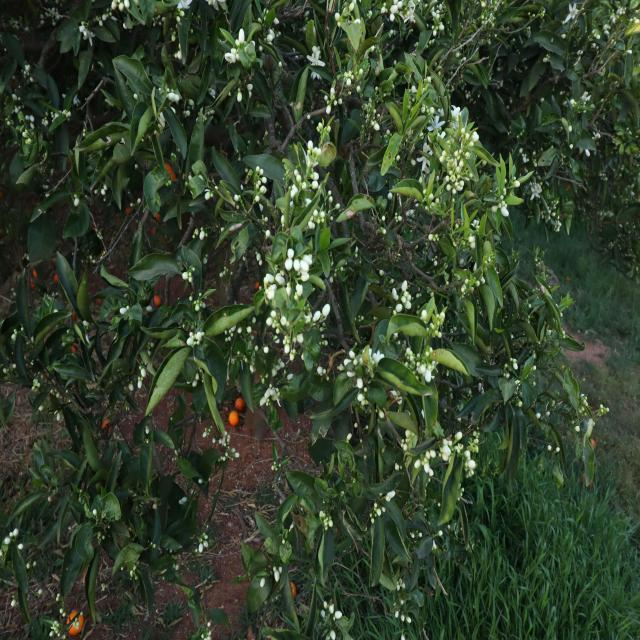Bunga: (308, 50, 326, 80), (445, 173, 464, 194), (431, 12, 444, 36), (429, 114, 443, 136), (417, 148, 432, 168), (565, 2, 579, 22), (462, 129, 478, 146), (454, 150, 469, 167), (272, 358, 285, 377), (404, 4, 416, 24), (440, 438, 450, 461), (264, 387, 280, 401), (446, 158, 460, 174), (450, 105, 463, 122), (206, 0, 226, 11), (464, 460, 476, 478), (194, 293, 205, 312), (82, 30, 95, 46), (198, 532, 208, 552), (402, 291, 412, 310), (498, 200, 509, 217), (202, 622, 212, 640), (372, 350, 384, 364), (218, 266, 232, 278), (186, 332, 196, 348), (50, 620, 60, 636), (344, 70, 354, 86), (224, 52, 237, 64), (530, 186, 542, 199), (598, 404, 610, 416), (276, 272, 286, 286), (182, 270, 192, 284), (266, 285, 276, 299), (260, 394, 270, 408), (404, 348, 414, 362), (177, 0, 192, 9), (284, 258, 294, 271), (25, 115, 35, 128), (192, 372, 200, 388), (274, 566, 282, 582), (324, 516, 333, 530), (300, 260, 310, 272), (416, 362, 426, 374), (386, 490, 396, 502), (472, 218, 480, 233), (421, 458, 429, 473), (449, 119, 459, 131), (175, 43, 182, 60), (322, 303, 330, 317), (72, 616, 80, 630), (436, 312, 444, 326), (304, 312, 312, 326), (302, 253, 312, 264), (60, 110, 71, 120), (238, 28, 244, 46), (290, 185, 298, 198), (225, 329, 233, 342), (272, 321, 280, 334), (424, 369, 432, 382), (468, 235, 476, 248), (230, 448, 240, 458), (428, 233, 439, 242), (196, 332, 203, 346), (296, 284, 303, 298), (255, 252, 262, 266), (267, 30, 274, 44), (401, 439, 409, 451), (510, 358, 518, 370), (581, 395, 589, 407), (372, 120, 380, 132), (177, 9, 184, 22), (310, 171, 320, 180), (406, 208, 415, 218), (32, 378, 40, 389), (398, 9, 406, 20), (401, 280, 408, 292), (224, 432, 230, 446), (286, 282, 292, 296), (312, 46, 320, 56), (310, 181, 320, 189), (286, 248, 294, 258), (266, 273, 274, 283), (307, 220, 315, 230), (266, 316, 274, 326), (50, 389, 60, 397), (10, 330, 18, 340), (50, 112, 60, 120), (464, 452, 472, 462), (398, 578, 406, 588), (202, 428, 210, 438), (296, 334, 304, 344), (394, 212, 402, 222), (390, 4, 398, 14), (101, 183, 107, 196), (280, 215, 286, 228), (314, 311, 321, 322), (139, 366, 146, 377), (294, 259, 300, 271), (301, 273, 309, 282), (204, 192, 213, 200), (320, 211, 326, 223), (10, 528, 18, 537), (138, 376, 144, 388), (74, 194, 80, 206), (421, 309, 427, 321), (290, 349, 296, 361), (256, 166, 263, 176), (111, 0, 118, 10), (280, 316, 287, 326), (414, 458, 421, 468), (334, 12, 341, 22), (307, 140, 313, 151), (234, 194, 242, 202), (334, 610, 342, 618), (179, 496, 187, 504), (273, 336, 281, 344), (260, 185, 266, 195), (200, 230, 206, 240), (284, 343, 290, 353), (393, 288, 398, 300), (357, 378, 363, 388), (474, 438, 478, 453), (330, 630, 336, 640), (250, 364, 256, 374), (326, 104, 332, 114), (168, 92, 175, 100), (38, 404, 46, 411), (11, 94, 18, 102), (173, 94, 180, 102), (283, 336, 290, 344), (439, 155, 446, 163), (380, 227, 387, 235), (395, 463, 402, 471), (237, 91, 242, 102), (24, 64, 30, 73), (296, 174, 302, 183), (60, 609, 66, 618), (10, 598, 16, 607), (42, 117, 48, 126), (328, 604, 334, 613), (428, 468, 434, 477), (397, 1, 403, 10), (119, 2, 124, 12), (346, 371, 356, 376), (260, 578, 265, 588), (349, 2, 354, 12), (78, 25, 85, 32), (4, 537, 11, 544), (491, 205, 498, 212), (124, 0, 130, 8), (294, 170, 300, 178), (396, 304, 402, 312), (270, 310, 276, 318), (56, 412, 62, 420), (120, 308, 128, 314), (317, 367, 323, 375), (430, 450, 436, 458), (522, 156, 528, 164), (382, 6, 388, 14), (330, 88, 336, 96), (430, 322, 435, 331), (248, 85, 252, 96), (350, 351, 356, 358), (344, 359, 350, 366), (426, 452, 432, 459), (319, 511, 325, 518), (128, 384, 134, 391), (287, 373, 293, 380), (334, 203, 340, 210), (514, 180, 520, 187), (353, 18, 360, 24), (82, 321, 90, 326), (406, 429, 410, 439), (394, 610, 399, 618), (533, 158, 537, 168), (579, 406, 584, 414), (356, 86, 361, 94), (256, 180, 260, 190), (246, 327, 252, 333), (380, 410, 384, 419), (406, 617, 412, 623), (255, 195, 260, 202), (457, 432, 462, 439), (442, 150, 447, 157), (504, 372, 509, 379), (337, 21, 342, 28), (264, 346, 268, 354), (56, 593, 60, 601), (400, 614, 404, 622), (314, 209, 318, 217), (388, 192, 392, 200), (262, 177, 267, 183), (231, 326, 236, 332), (18, 544, 23, 550), (381, 506, 386, 512), (397, 580, 400, 590), (243, 356, 248, 362), (327, 190, 332, 196), (575, 426, 580, 432), (358, 394, 362, 401), (377, 509, 381, 516), (218, 437, 222, 444), (266, 230, 270, 237), (548, 444, 552, 451), (390, 14, 394, 21), (438, 4, 442, 11), (14, 108, 19, 113), (232, 48, 236, 54), (194, 228, 198, 234), (189, 296, 193, 302), (238, 327, 242, 333), (62, 634, 66, 640), (137, 198, 141, 204), (102, 14, 106, 20), (324, 602, 328, 608), (220, 456, 226, 460), (255, 346, 259, 352), (338, 98, 342, 104), (374, 503, 377, 510), (12, 364, 16, 369), (212, 438, 216, 443), (536, 413, 540, 418), (556, 447, 560, 452), (394, 0, 398, 5), (26, 563, 29, 569), (329, 196, 332, 202), (503, 188, 506, 194), (504, 364, 508, 368), (532, 366, 536, 370), (21, 328, 24, 332), (225, 452, 228, 456), (382, 216, 385, 220), (432, 6, 434, 12), (238, 352, 240, 354)
Jeruk Sudah Matang: (66, 610, 84, 635), (165, 163, 175, 180), (229, 410, 239, 426), (236, 396, 246, 412), (290, 582, 296, 600), (255, 282, 259, 288)
